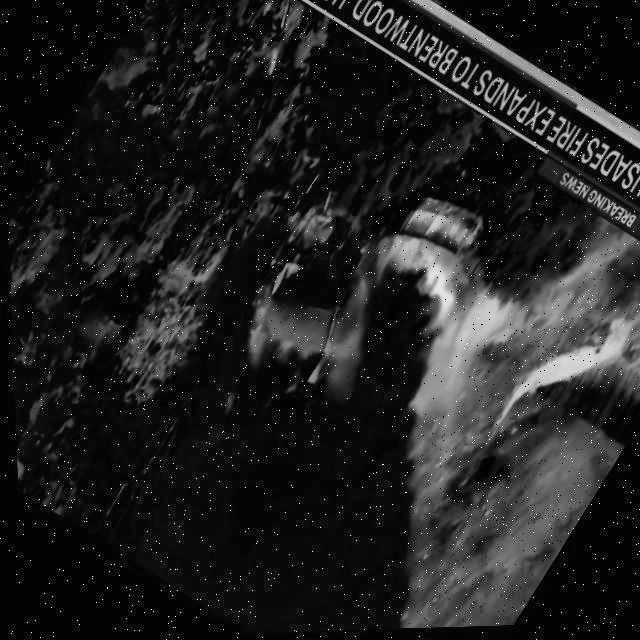Smoke: (90, 224, 583, 638)
